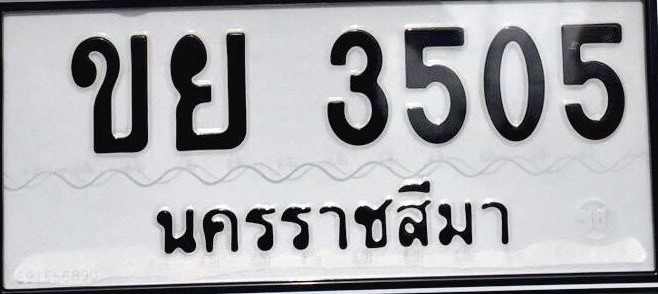txt02: (67, 31, 152, 156)
txt29: (166, 29, 252, 153)
